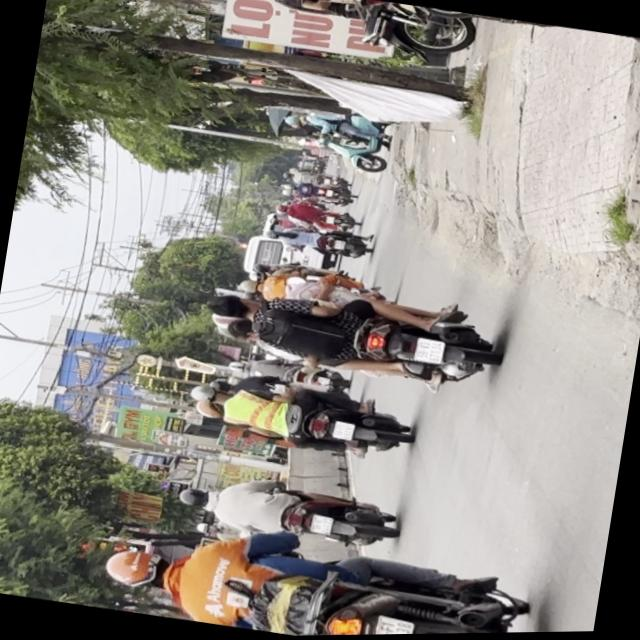helmet: (100, 543, 176, 594), (175, 486, 212, 511), (187, 383, 226, 406), (194, 399, 224, 420), (236, 279, 260, 295)
licenseplate: (96, 505, 554, 639), (184, 371, 416, 470), (171, 466, 401, 559)
motorcyclist: (210, 291, 263, 324), (222, 315, 264, 344)
nohelmet: (373, 615, 416, 636), (414, 338, 445, 365), (331, 420, 356, 442), (310, 514, 333, 536)
